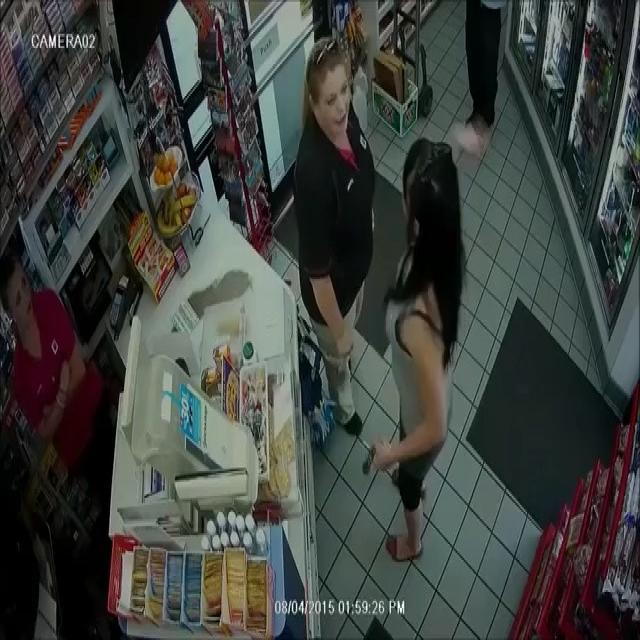fight: (298, 38, 456, 570)
